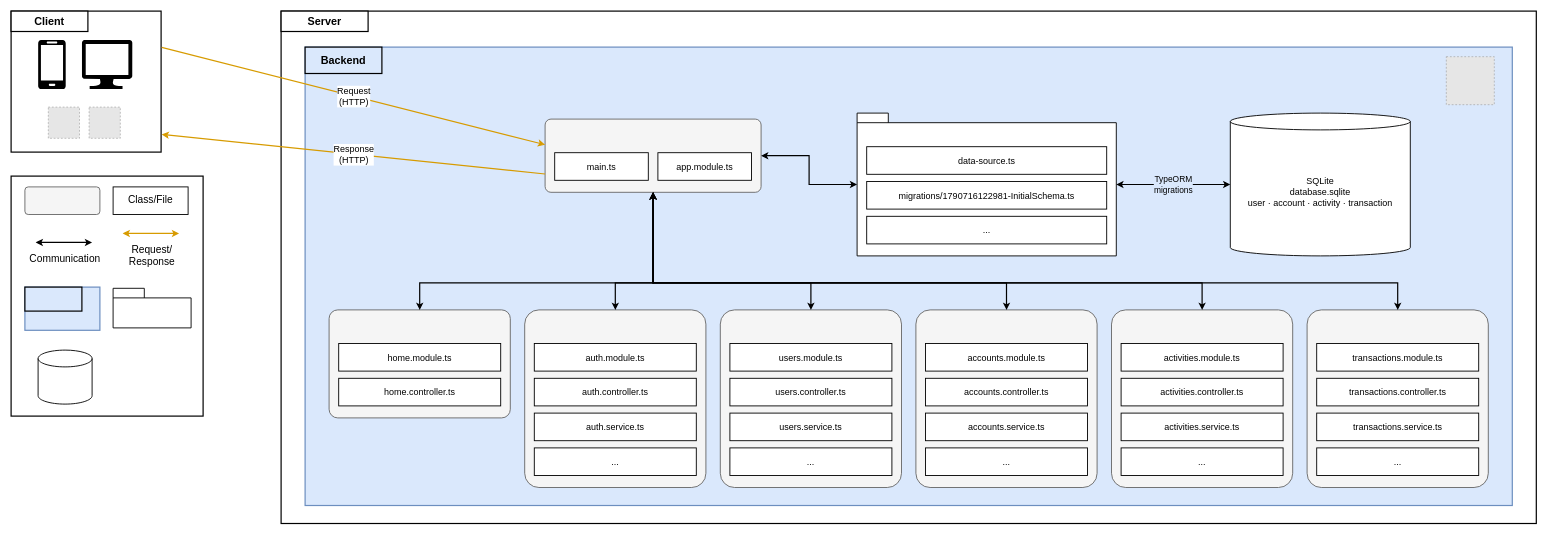
Some shapes in this 1547 by 534 pixel diagram are drawn without their labels. Grey dashed boxes stand in for pictures. Here are the shapes that lost their labels. From the top down, the box of each, then its label:
(544, 118, 761, 192): src
(24, 186, 100, 215): Module
(856, 112, 1116, 256): src/database
(24, 286, 82, 311): Project
(112, 288, 191, 328): package
(37, 349, 92, 404): Database
(328, 309, 510, 418): src/home
(524, 309, 706, 488): src/auth
(720, 309, 902, 488): src/users
(915, 309, 1097, 488): src/accounts
(1111, 309, 1293, 488): src/activities
(1306, 309, 1488, 488): src/transactions
